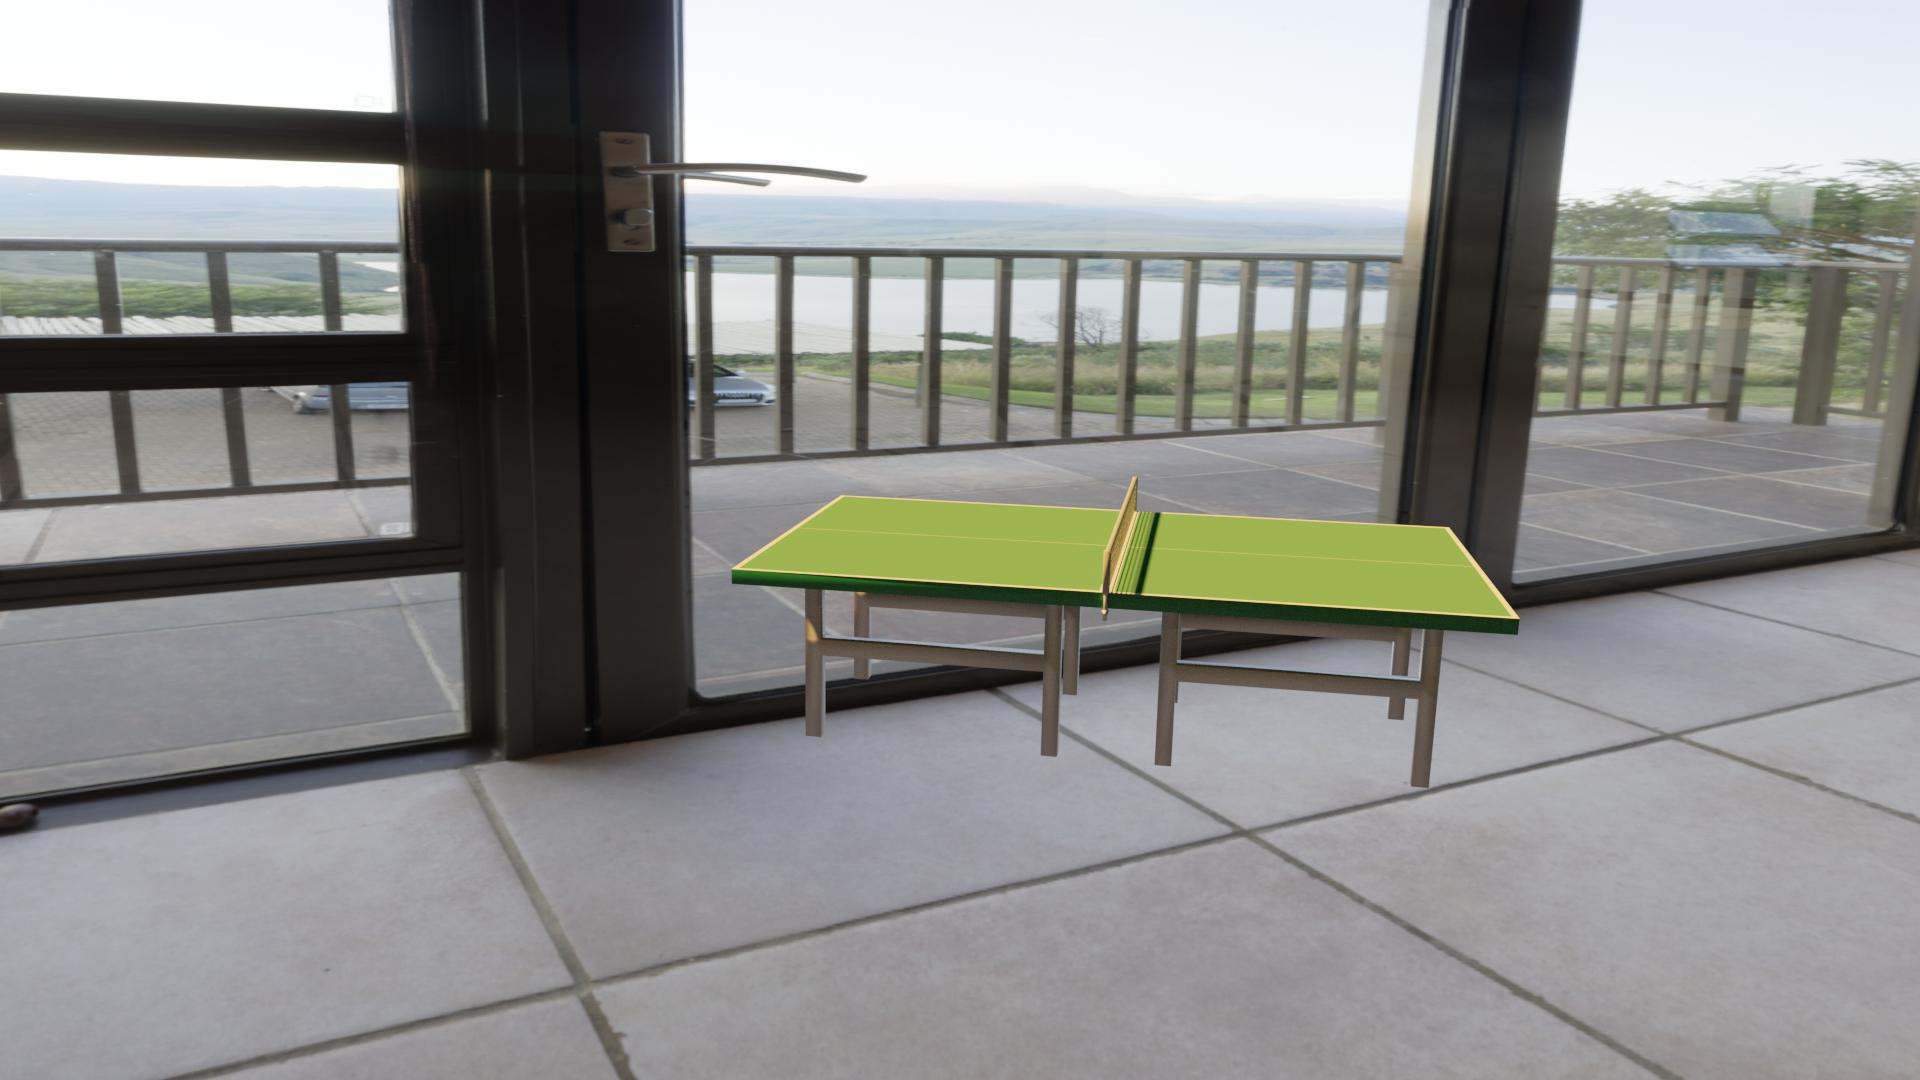table: (738, 496, 1513, 617)
